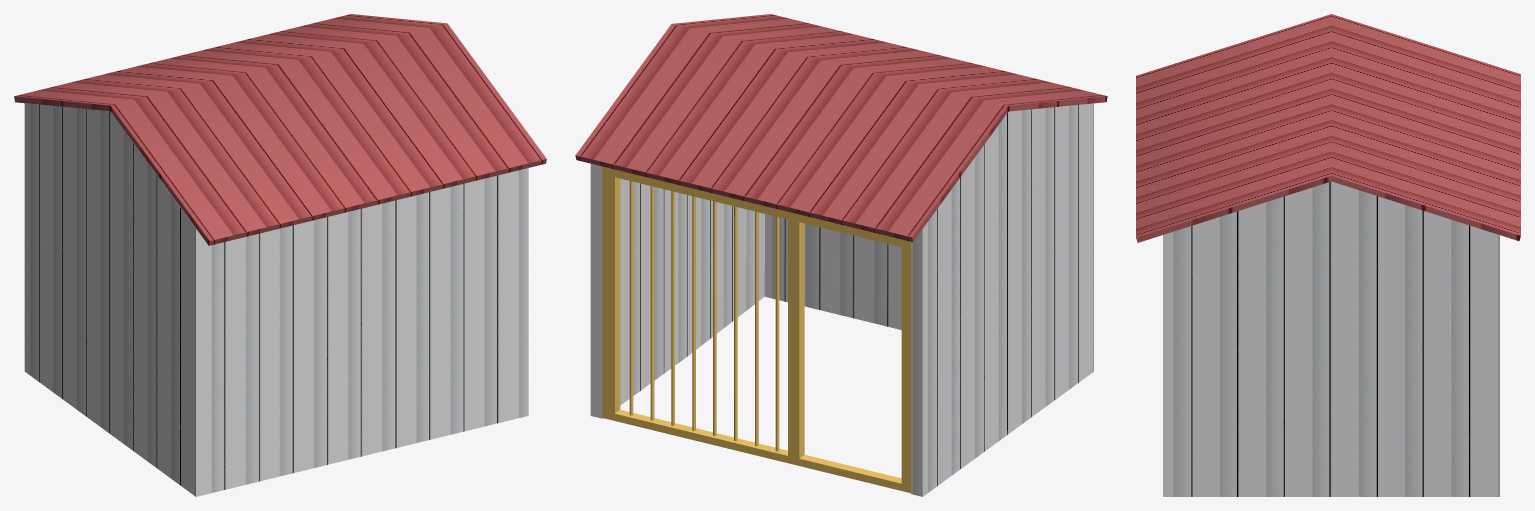
The model's file is 铁皮房2.fbx.
The picture shows the model from 3 angles, left to right: view 1: azimuth 30°, elevation 25°; view 2: azimuth 150°, elevation 25°; view 3: azimuth 270°, elevation 25°; orthographic projection.
Parts seen in each view (by area): view 1: Box298, 对象416; view 2: Box298, 对象416, Cylinder063; view 3: Box298, 对象416.
Boxes of the visible parts, <box> form: Box298: <box>24,103,528,496</box>; 对象416: <box>14,14,546,245</box>; Box298: <box>590,103,1093,496</box>; 对象416: <box>575,14,1107,241</box>; Cylinder063: <box>602,166,910,492</box>; Box298: <box>1163,181,1499,496</box>; 对象416: <box>1136,14,1520,242</box>.
Size of the model in its own units: 10.16 by 9.46 by 10.21.
Materials: 3 (2 with a texture image).
